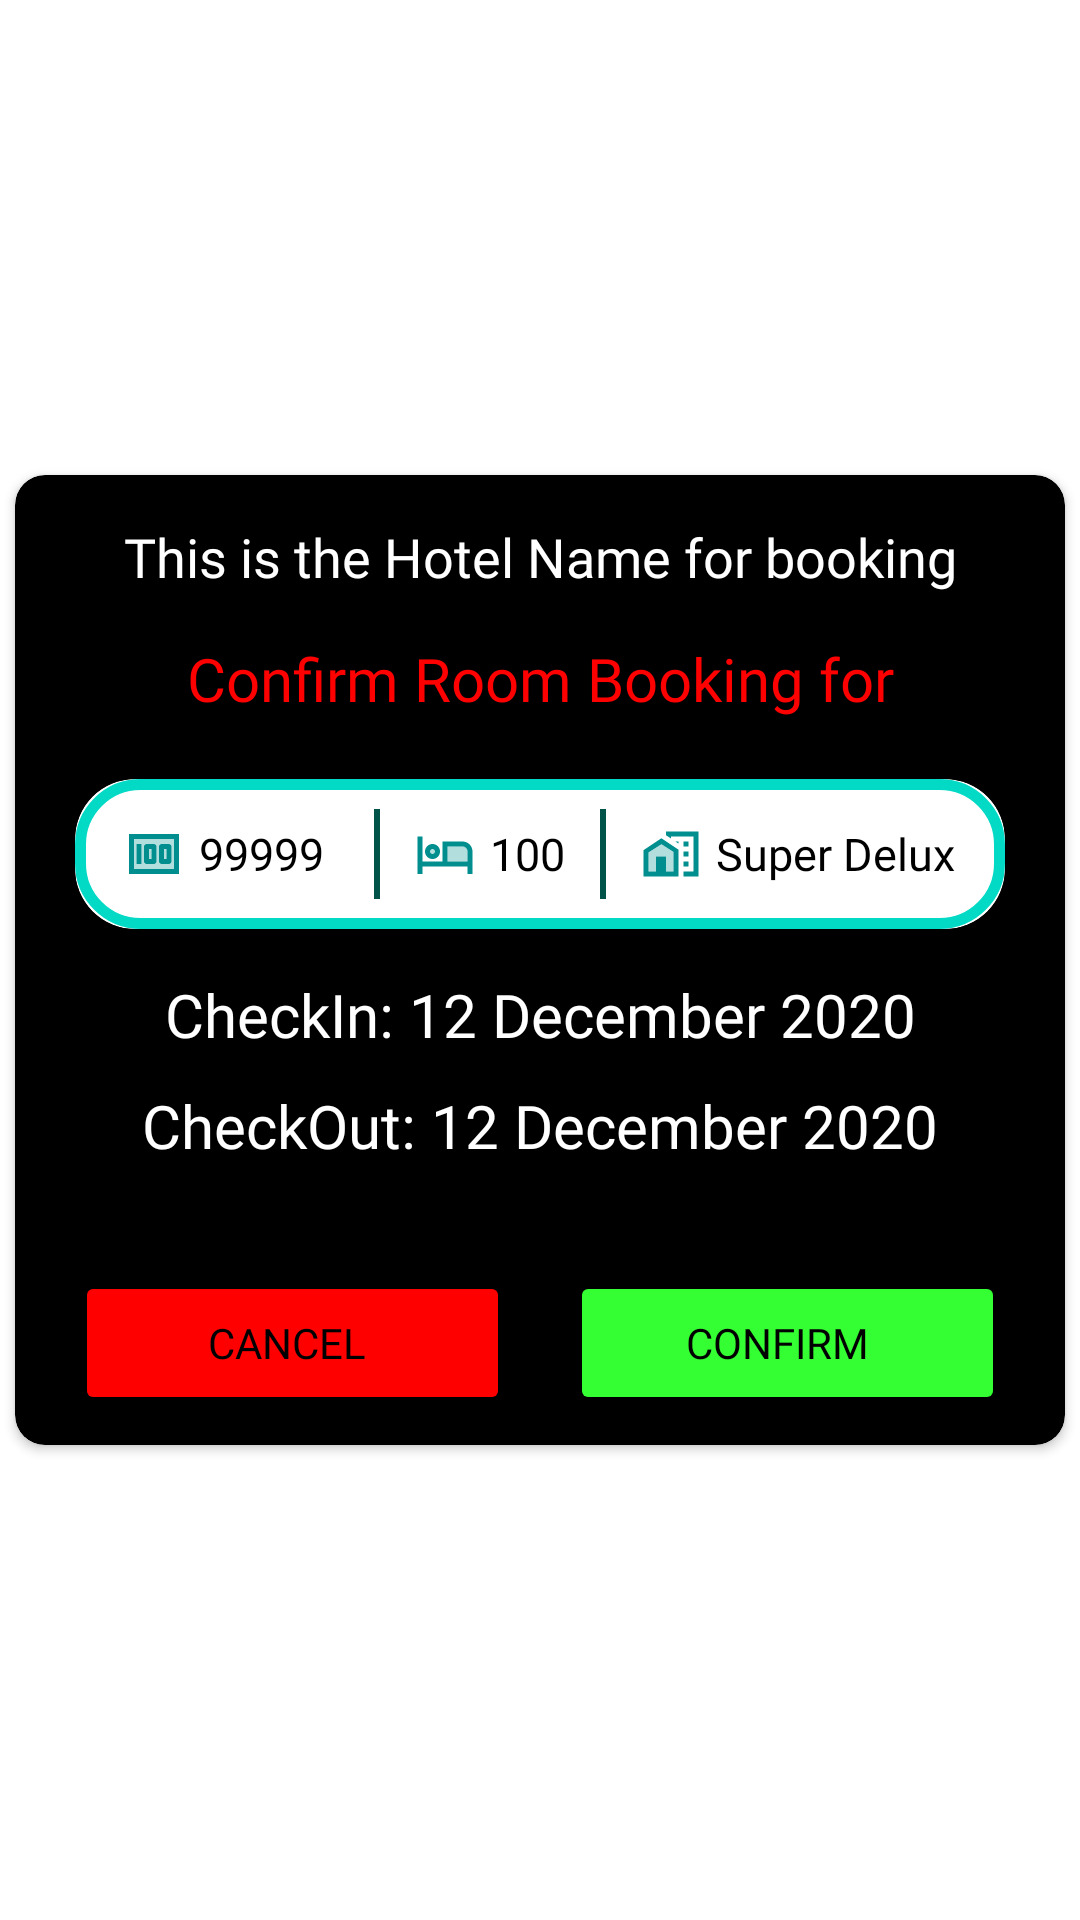

Screen size 1080 × 1920. Icon name, then its center in pixels as (x,y):
hotel: (445,855)
money: (154,854)
room type: (671,854)
